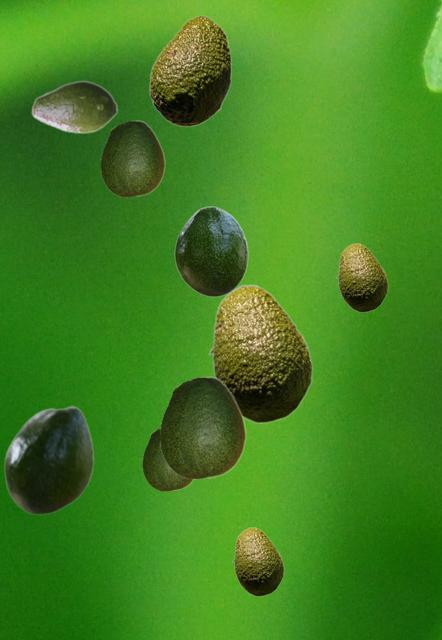avocado: (208, 284, 312, 422), (3, 405, 93, 514), (149, 15, 230, 126), (159, 376, 245, 478), (174, 206, 247, 296), (100, 120, 164, 196), (31, 80, 117, 133), (232, 527, 283, 595), (336, 243, 387, 311), (142, 428, 194, 490)
